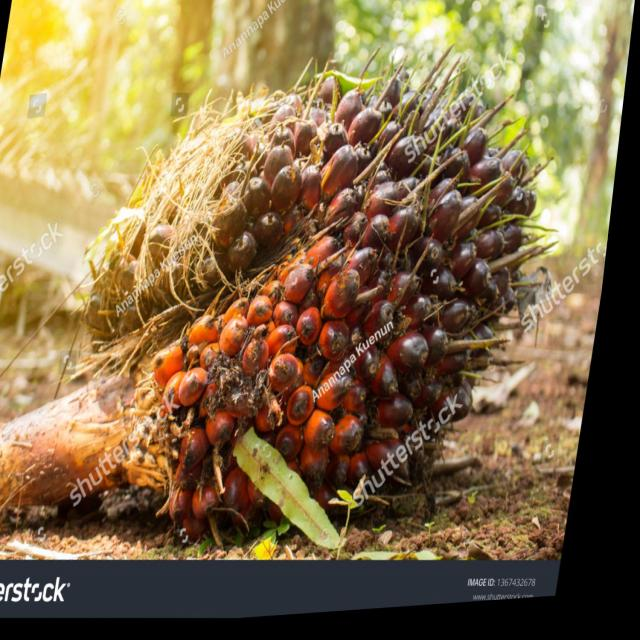Ripefruit: (60, 34, 570, 571)
